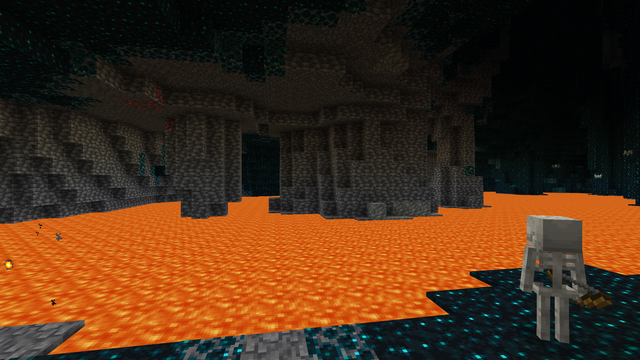squelettes: (519, 215, 588, 353)
